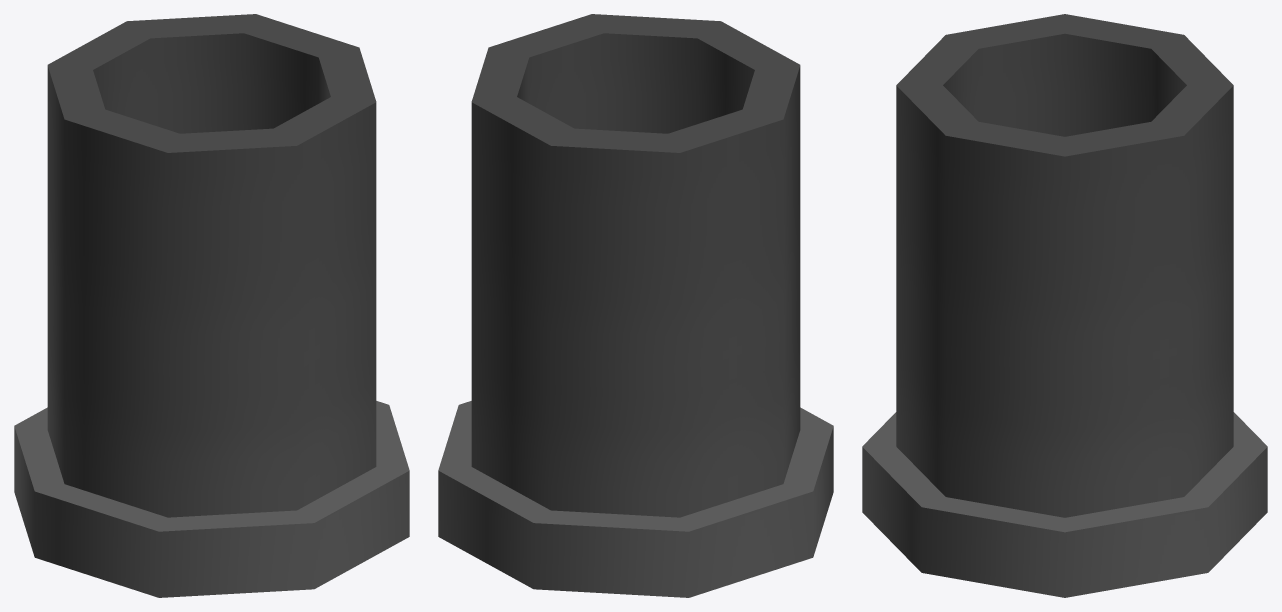
The model's file is Chimney_1_B_4.fbx.
The picture shows the model from 3 angles, left to right: view 1: azimuth 30°, elevation 25°; view 2: azimuth 150°, elevation 25°; view 3: azimuth 270°, elevation 25°; orthographic projection.
Visible parts, largest first — view 1: Chimney_1_B_4; view 2: Chimney_1_B_4; view 3: Chimney_1_B_4.
Boxes of the visible parts, x1,y1,x2,y2 form: Chimney_1_B_4: [14, 14, 409, 597]; Chimney_1_B_4: [438, 14, 833, 597]; Chimney_1_B_4: [862, 14, 1267, 597].
Size of the model in its own units: 61.78 by 71.75 by 61.78.
